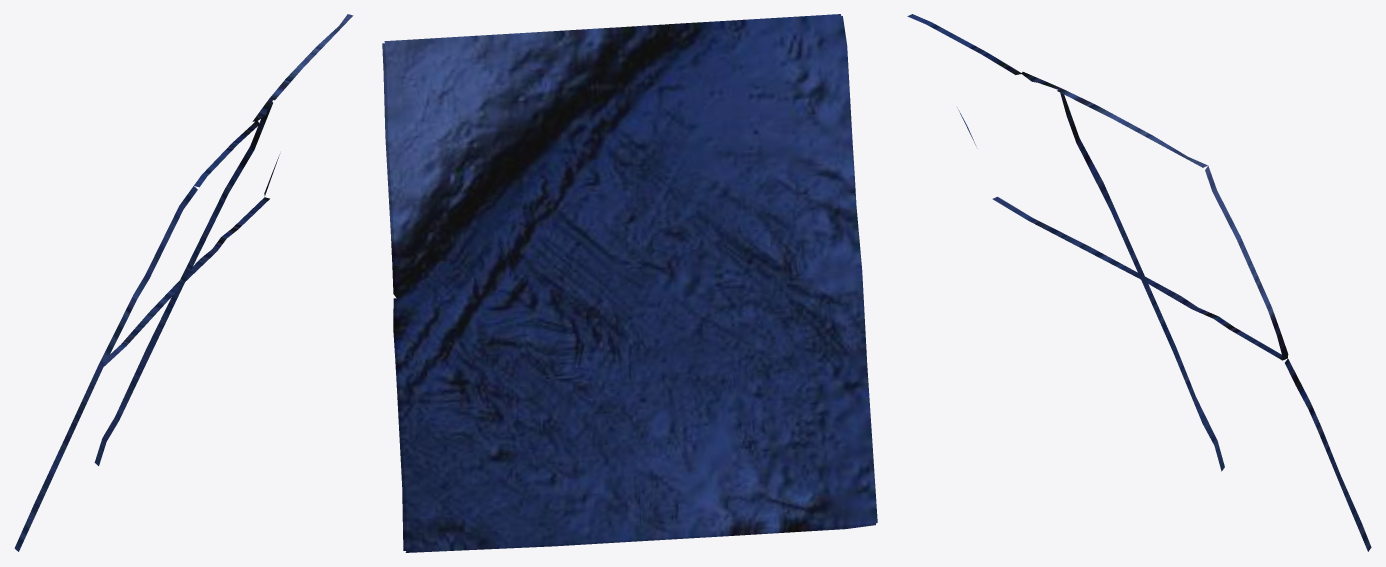
3 renders of one model, left to right at view 1: azimuth 30°, elevation 25°; view 2: azimuth 150°, elevation 25°; view 3: azimuth 270°, elevation 25°, orthographic. The views are drawn at different scales.
Size of the model in its own units: 304251 by 290337 by 279746.
1 material, 1 textured.
